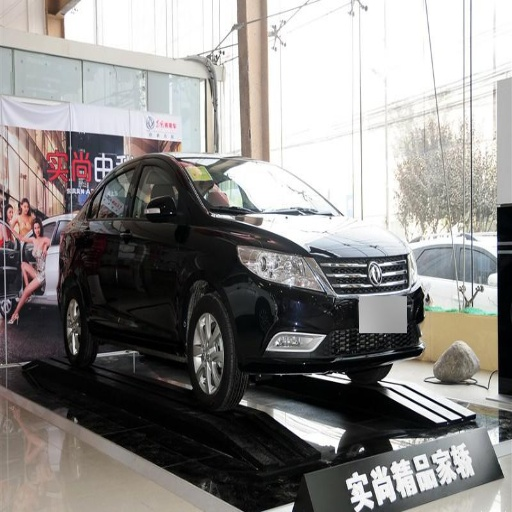front_bumper: (229, 251, 424, 380)
front_right_door: (116, 156, 185, 349)
front_right_light: (239, 236, 319, 288)
